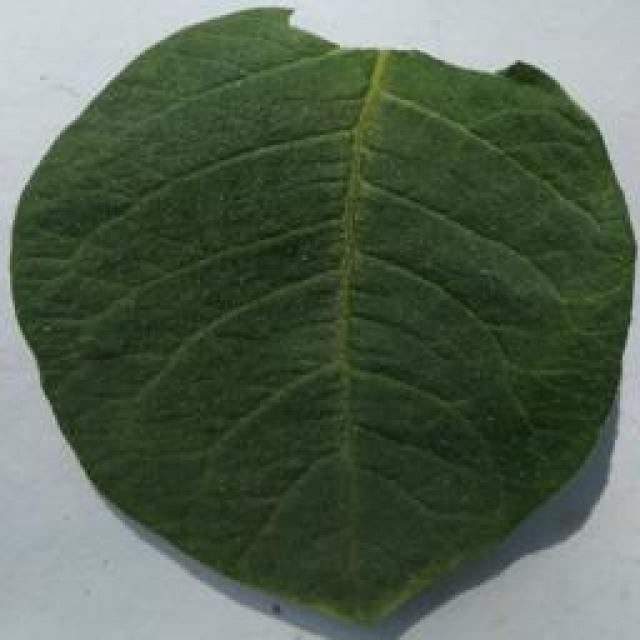Potato_Healthy: (4, 10, 634, 631)
